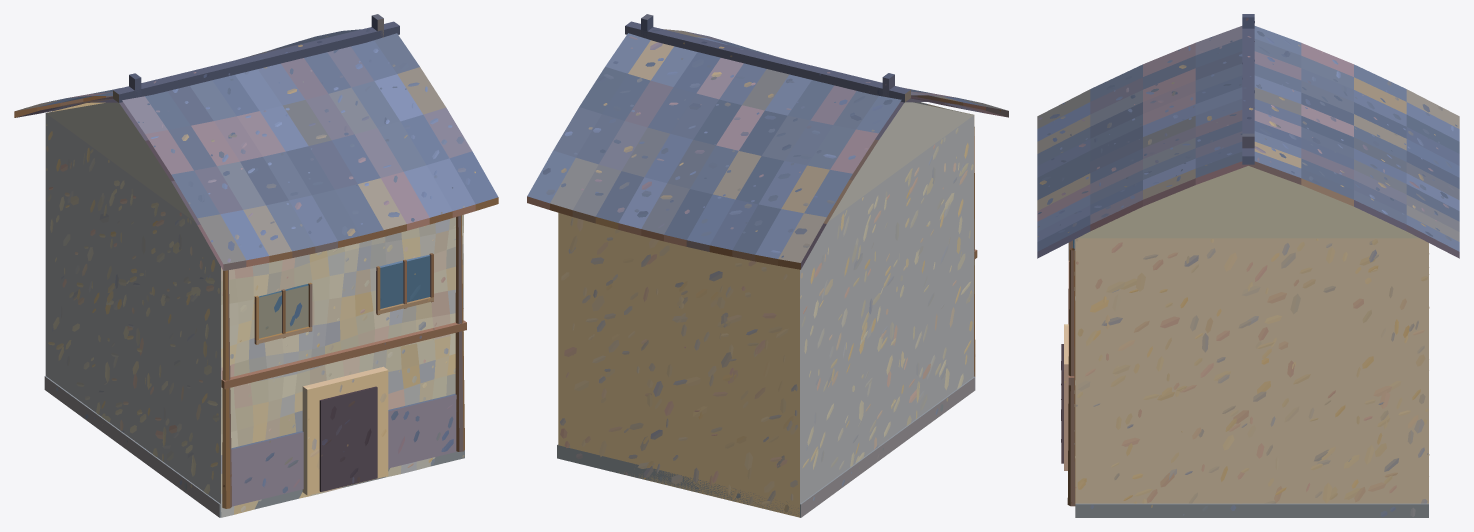
Rendered from HK_Kura.glb.
3 renders of one model, left to right at view 1: azimuth 30°, elevation 25°; view 2: azimuth 150°, elevation 25°; view 3: azimuth 270°, elevation 25°, orthographic.
Parts seen in each view (by area): view 1: HK_Kura; view 2: HK_Kura; view 3: HK_Kura.
Boxes of the visible parts, x1,y1,x2,y2 form: HK_Kura: (14,14,498,517); HK_Kura: (527,14,1008,517); HK_Kura: (1037,14,1459,517).
Bounding box in the file's own units: 6.95 × 8.94 × 8.95.
